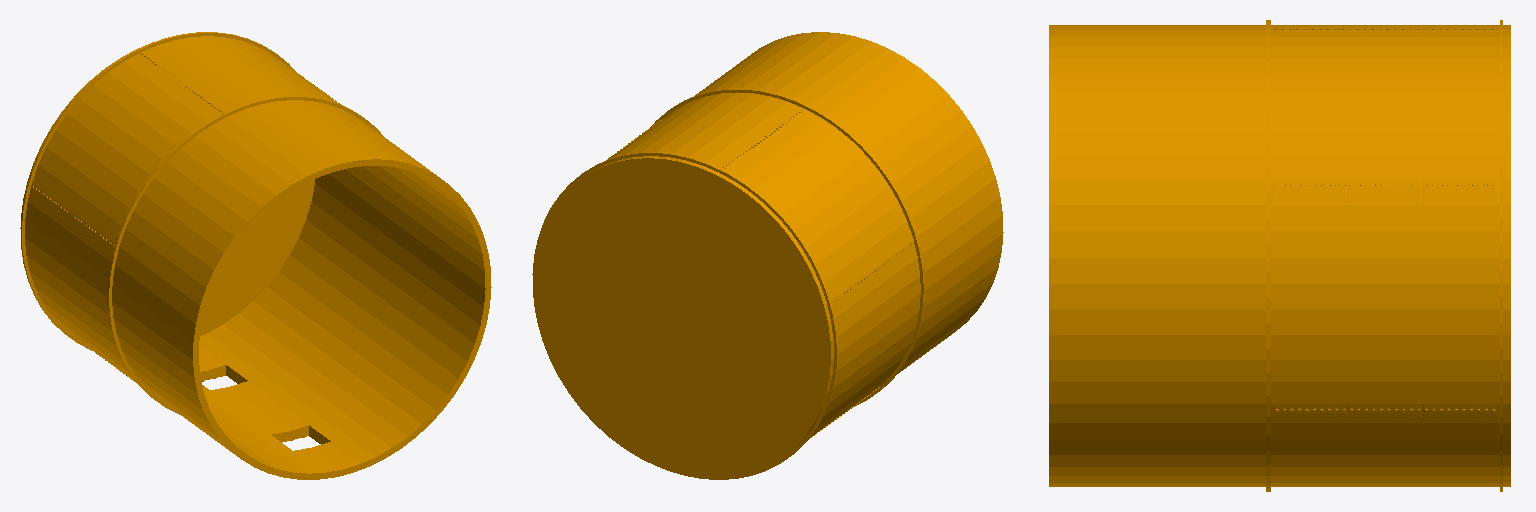
robot.urdf — tanke_model:
<robot name="tanke_model">
  <link name="tank_body">
    <inertial>
      <mass value="1.0" />
      <!-- center of mass (com) is defined w.r.t. link local coordinate system -->
      <origin xyz="0.25 -0.5 0" />
      <inertia  ixx="1.0" ixy="0.0"  ixz="0.0"  iyy="1.0"  iyz="0.0"  izz="1.0" />
    </inertial>
    <visual>
      <!-- visual origin is defined w.r.t. link local coordinate system -->
      <origin xyz="0 0 0" rpy="3.1416 0 0" />
      <geometry>
        <mesh filename="tank.stl" scale="0.01 0.01 0.01"/>
      </geometry>
    </visual>
    <collision>
      <!-- collision origin is defined w.r.t. link local coordinate system -->
      <origin xyz="0 0 0" rpy="3.1416 0 0" />
      <geometry>
        <mesh filename="package://cvg_sim_gazebo/meshes/tank.stl" scale="0.01 0.01 0.01"/>
      </geometry>
    </collision>
  </link>
  <gazebo reference="tank_body">
    <material>Gazebo/LightWood</material>
  </gazebo>
</robot>

--- Render facts (derived) ---
Views: 3 orthographic renders of the robot side by side, from view 1: azimuth 30°, elevation 25°; view 2: azimuth 150°, elevation 25°; view 3: azimuth 270°, elevation 25°.
Robot: tanke_model — 1 links, 0 joints (none); root link tank_body; default pose: all joints at 0.
Visible links, largest first — view 1: tank_body; view 2: tank_body; view 3: tank_body.
Boxes of the visible links, x1,y1,x2,y2 form: tank_body: (20, 32, 491, 479); tank_body: (532, 32, 1003, 479); tank_body: (1049, 20, 1510, 491).
Bounding box of the posed robot: 50.98 × 50 × 51.16 m (x, y, z).
1 mesh visuals loaded from 1 distinct referenced files (1 binary STL).